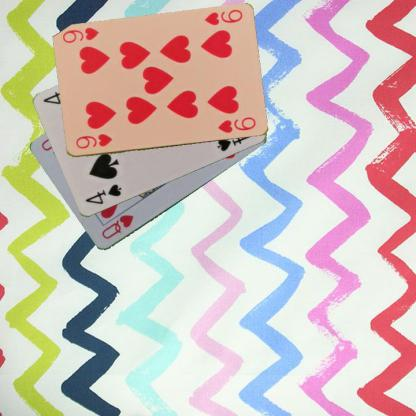4s: (82, 182, 123, 206)
9h: (202, 7, 244, 27), (73, 131, 113, 150)
Qh: (99, 212, 135, 241)
